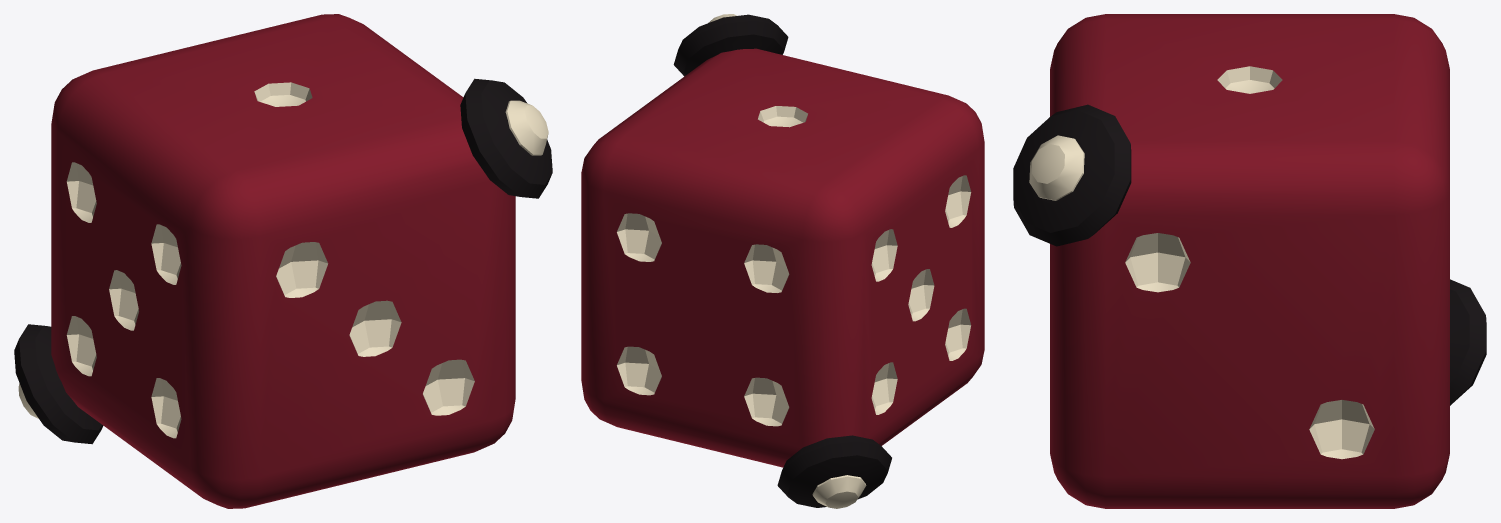
The model's file is blood_pact_d6.glb.
3 renders of one model, left to right at view 1: azimuth 30°, elevation 25°; view 2: azimuth 150°, elevation 25°; view 3: azimuth 270°, elevation 25°, orthographic. The views are drawn at different scales.
Parts seen in each view (by area): view 1: BloodPactD6; view 2: BloodPactD6; view 3: BloodPactD6.
Part boxes in pixels (box(x1,y1,x2,y2)): BloodPactD6: box(14, 14, 552, 508); BloodPactD6: box(581, 14, 984, 508); BloodPactD6: box(1013, 14, 1486, 508).
Bounding box in the file's own units: 0.0946 × 0.0946 × 0.0946.
